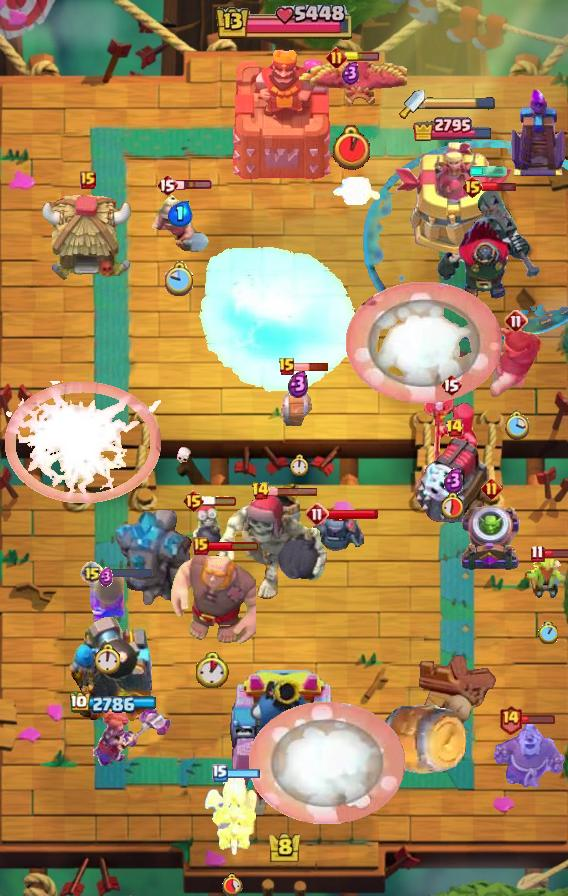balloon: (168, 550, 256, 648)
bandit: (148, 189, 212, 253)
bar: (395, 142, 514, 256)
barbarian-evolution: (3, 381, 161, 503)
bat: (331, 175, 381, 205)
battle-ram: (304, 514, 364, 554)
bomb-tower: (86, 572, 126, 628)
cannoneer-tower: (112, 510, 196, 608)
clock: (213, 5, 355, 43)
dirt: (377, 703, 469, 777)
electro-giant: (214, 488, 330, 602)
electro-spirit: (167, 201, 192, 227), (288, 370, 309, 398), (444, 466, 464, 493), (342, 61, 360, 85), (99, 567, 113, 587)
elixir: (333, 126, 370, 171), (195, 652, 228, 688), (165, 261, 195, 295), (93, 643, 120, 673), (504, 410, 529, 441), (441, 492, 464, 519), (221, 872, 243, 896), (288, 454, 308, 476), (538, 622, 558, 644)
elixir-collector: (490, 716, 568, 792)
emote: (208, 540, 261, 552), (327, 508, 379, 520), (101, 567, 153, 579), (267, 486, 319, 497), (483, 179, 518, 192), (175, 179, 212, 191), (202, 495, 238, 507), (520, 714, 556, 725), (226, 768, 261, 779), (344, 52, 380, 62), (295, 362, 330, 372), (544, 549, 568, 560)
goblin-cage: (459, 503, 523, 573)
golem: (411, 437, 497, 525)
ice-golem: (190, 500, 224, 556)
ice-spirit: (469, 166, 509, 178)
ice-spirit-evolution-symbol: (508, 86, 568, 178)
inferno-tower: (436, 188, 542, 300)
king-tower: (219, 670, 349, 826), (229, 43, 339, 181)
king-tower-bar: (425, 97, 495, 111)
knight: (276, 371, 320, 429)
mega-knight: (196, 246, 362, 396)
mini-pekka: (203, 774, 261, 858)
mother-witch: (295, 53, 407, 123)
pad_0: (362, 140, 568, 346)
prince: (41, 193, 135, 283)
rascal-boy: (421, 392, 481, 476)
royal-hog: (489, 324, 543, 400)
selected: (412, 115, 494, 141), (69, 692, 158, 715)
tesla-evolution: (91, 704, 172, 769)
text: (497, 704, 522, 735), (504, 309, 528, 333), (305, 502, 329, 526), (80, 561, 104, 585), (461, 175, 484, 199), (182, 489, 205, 513), (156, 173, 178, 197), (440, 373, 462, 397), (325, 47, 346, 69), (481, 477, 502, 499), (445, 418, 464, 438), (250, 481, 269, 501), (278, 357, 296, 377), (80, 171, 96, 189), (193, 537, 209, 555), (212, 764, 228, 782), (531, 545, 545, 564)
tower-bar: (64, 615, 164, 731)
wall-breaker: (346, 280, 502, 403), (248, 702, 405, 824)
zap: (522, 559, 568, 601)
